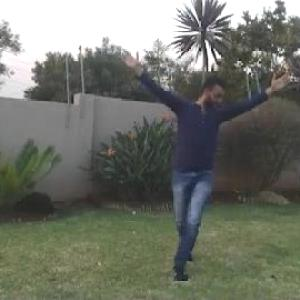takeoff: (67, 27, 299, 282)
